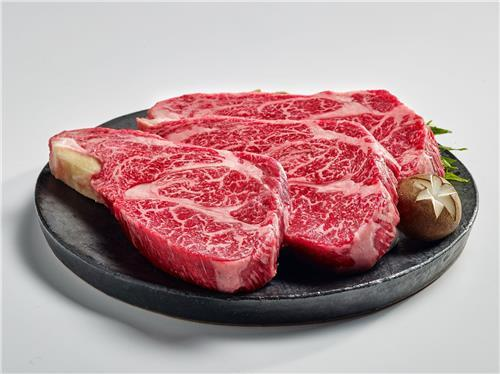beef: (77, 58, 312, 158)
